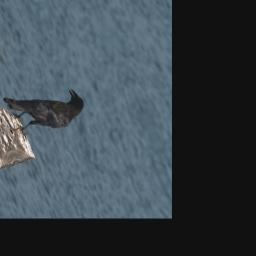Crow: (1, 75, 91, 141)
